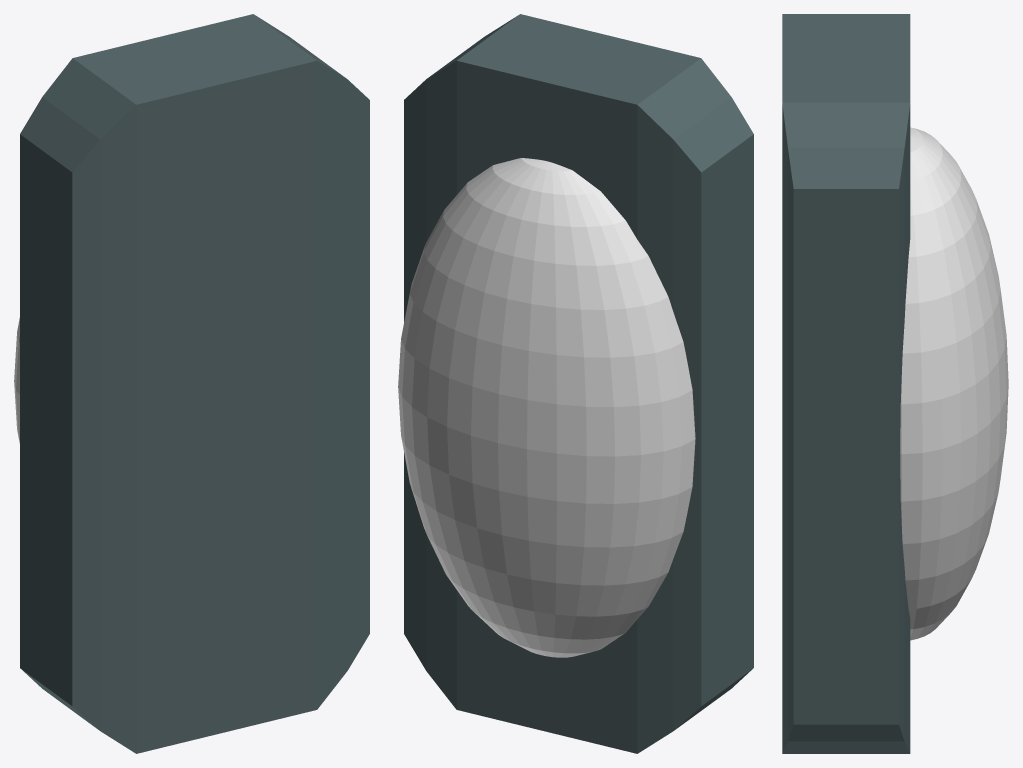
Rendered from Wall light.fbx.
3 renders of one model, left to right at view 1: azimuth 30°, elevation 25°; view 2: azimuth 150°, elevation 25°; view 3: azimuth 270°, elevation 25°, orthographic.
Parts seen in each view (by area): view 1: WallLight; view 2: WallLight; view 3: WallLight.
Part boxes in pixels (left/top/right/bottom): WallLight: left=14, top=14, right=369, bottom=753; WallLight: left=398, top=14, right=753, bottom=753; WallLight: left=782, top=14, right=1008, bottom=753.
Size of the model in its own units: 9.04 by 18.84 by 5.94.
